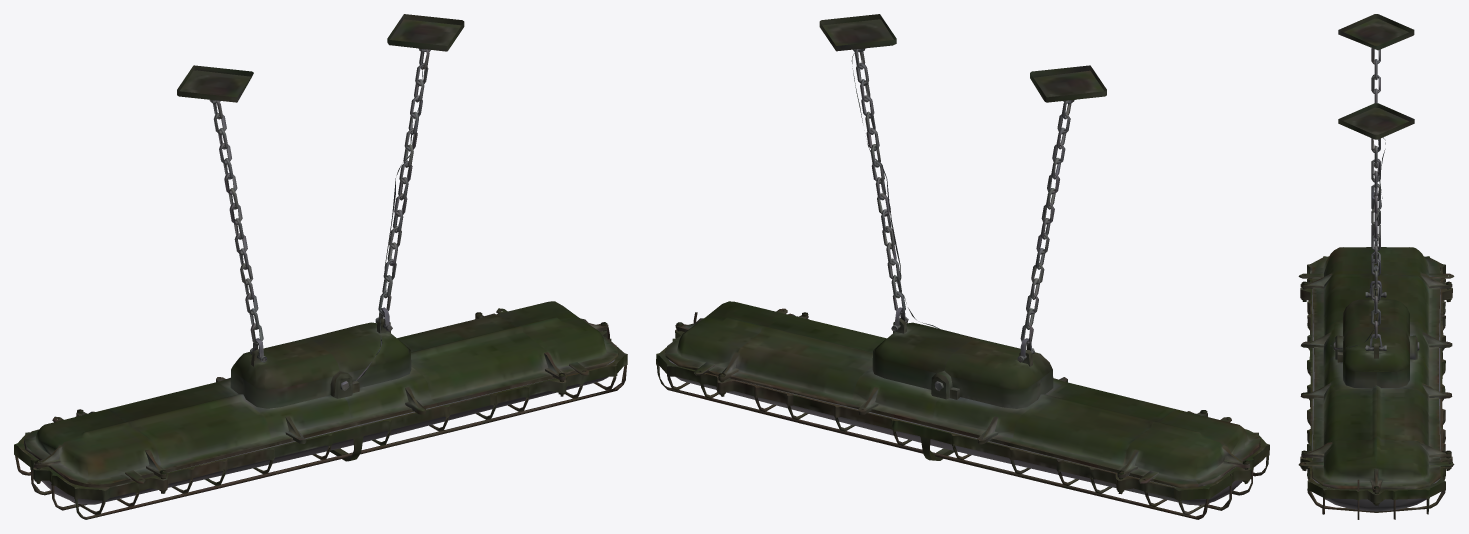
The model's file is caged_hanging_light.glb.
3 renders of one model, left to right at view 1: azimuth 30°, elevation 25°; view 2: azimuth 150°, elevation 25°; view 3: azimuth 270°, elevation 25°, orthographic. The views are drawn at different scales.
Parts seen in each view (by area): view 1: caged_hanging_light; view 2: caged_hanging_light; view 3: caged_hanging_light.
Boxes of the visible parts, x1,y1,x2,y2 form: caged_hanging_light: [14, 14, 627, 519]; caged_hanging_light: [656, 14, 1269, 519]; caged_hanging_light: [1298, 14, 1454, 519].
Size of the model in its own units: 1.16 by 0.7501 by 0.3149.
1 material, 1 textured.
